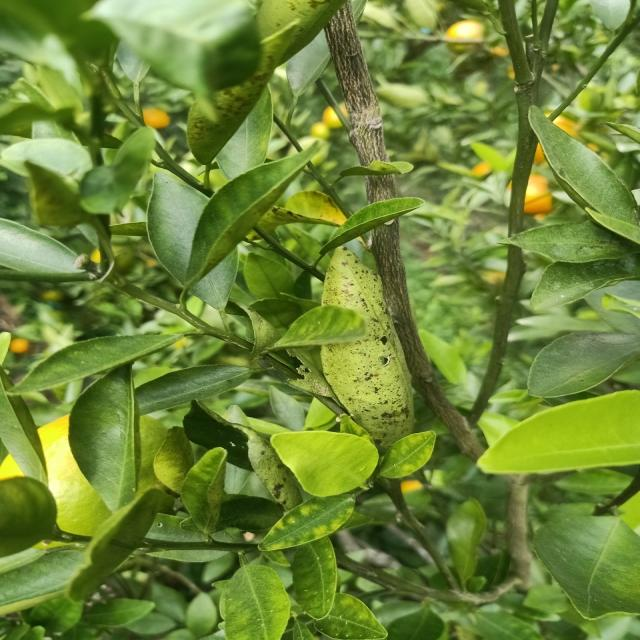melanose: (317, 243, 445, 437)
